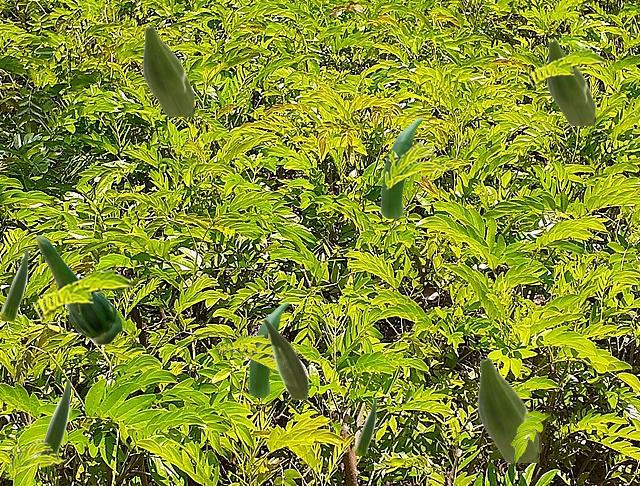okra: (35, 235, 122, 344), (477, 357, 537, 461), (142, 25, 193, 115), (380, 117, 422, 217), (546, 39, 594, 124), (248, 301, 288, 396), (263, 318, 307, 398), (36, 379, 69, 455), (0, 249, 27, 319), (354, 398, 375, 454), (538, 433, 540, 451)
